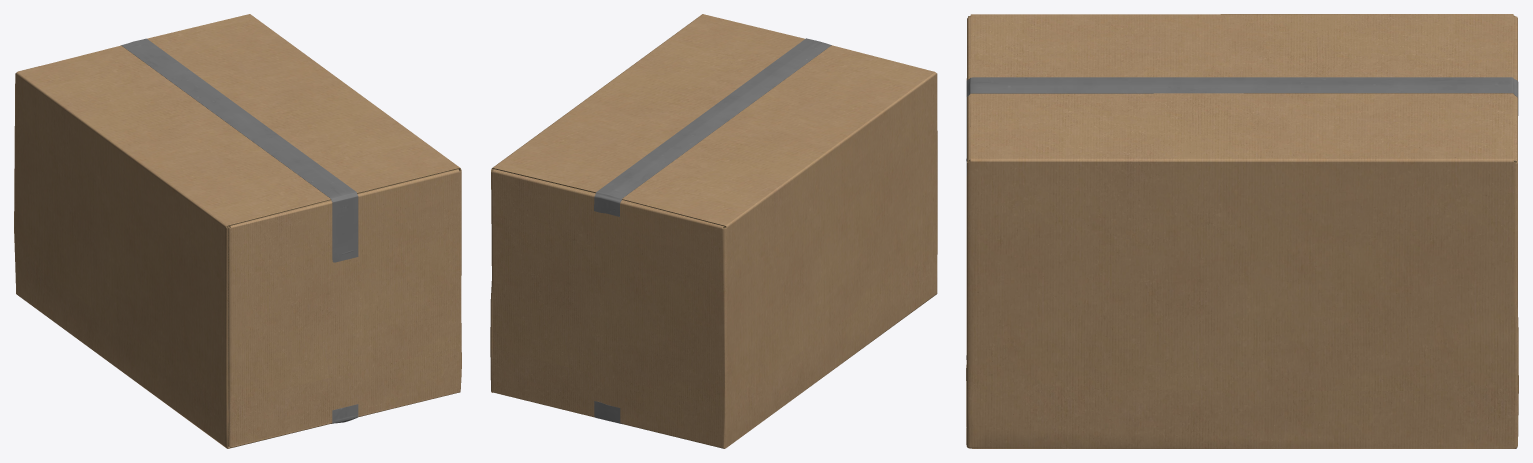
The model's file is box_printer_brown_b01.glb.
The picture shows the model from 3 angles, left to right: view 1: azimuth 30°, elevation 25°; view 2: azimuth 150°, elevation 25°; view 3: azimuth 270°, elevation 25°; orthographic projection. The views are drawn at different scales.
Parts seen in each view (by area): view 1: sm_box_printer_b01_mesh_00; view 2: sm_box_printer_b01_mesh_00; view 3: sm_box_printer_b01_mesh_00.
Part boxes in pixels (x1,y1,x2,y2): sm_box_printer_b01_mesh_00: [14, 14, 461, 448]; sm_box_printer_b01_mesh_00: [490, 14, 937, 448]; sm_box_printer_b01_mesh_00: [966, 14, 1518, 448].
Bounding box in the file's own units: 0.2767 × 0.256 × 0.4345.
Materials: 2 (2 with a texture image).
